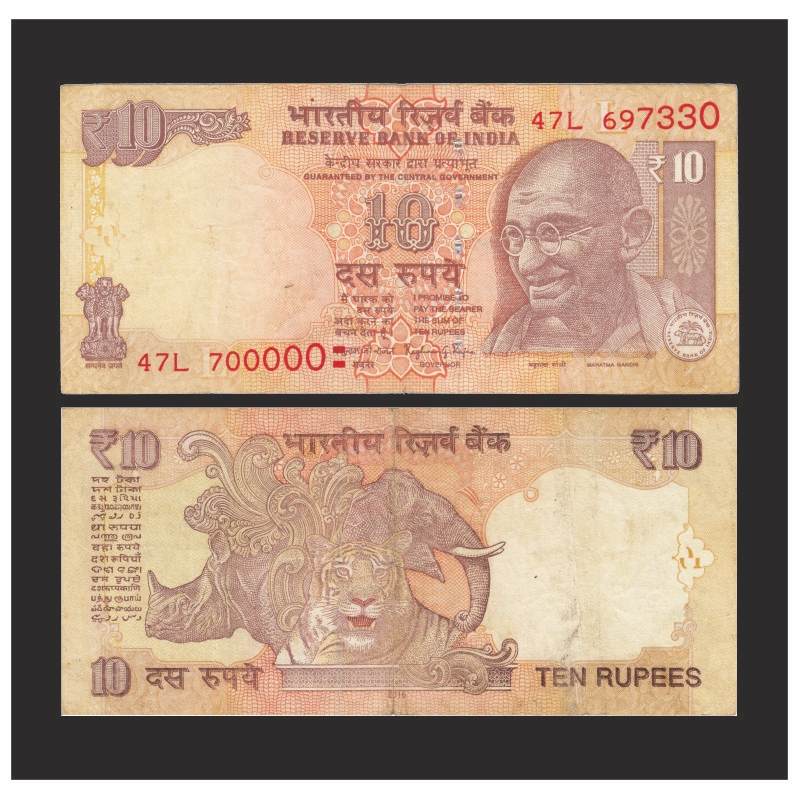ten_rupees_note: (57, 79, 740, 396), (60, 407, 737, 717)
